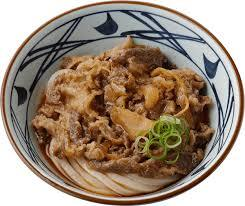niku: (3, 1, 245, 205)
